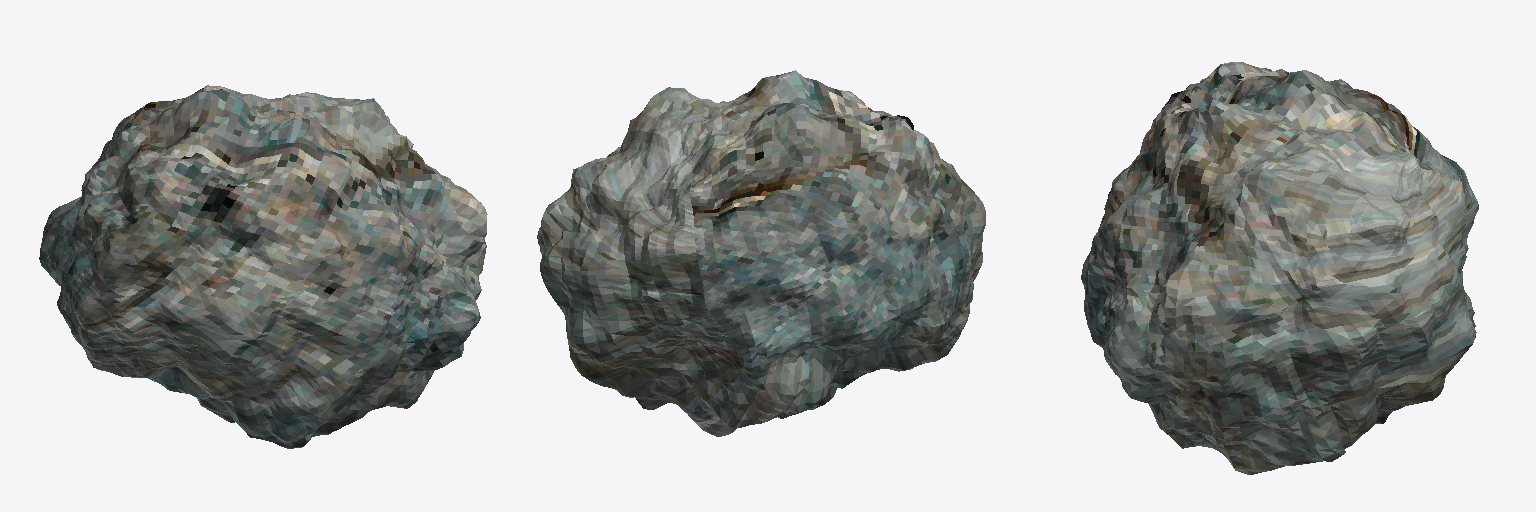
3 renders of one model, left to right at view 1: azimuth 30°, elevation 25°; view 2: azimuth 150°, elevation 25°; view 3: azimuth 270°, elevation 25°, orthographic.
Visible parts, largest first — view 1: Cube.002; view 2: Cube.002; view 3: Cube.002.
Part boxes in pixels (x1,y1,x2,y2): Cube.002: (39,85,487,448); Cube.002: (537,70,985,436); Cube.002: (1081,62,1478,474).
Size of the model in its own units: 1.17 by 0.9668 by 1.05.
1 materials, 1 textured.